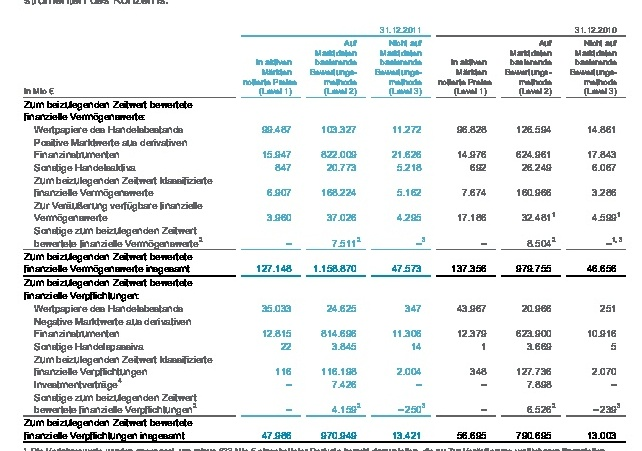table: (0, 0, 642, 451)
